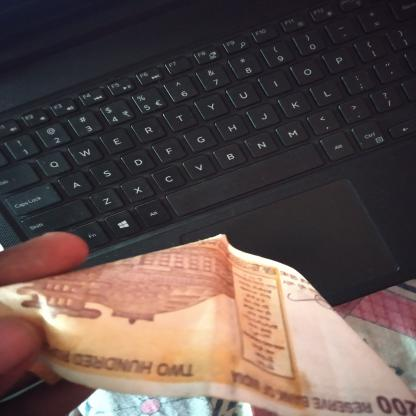New200Back: (11, 245, 412, 415)
